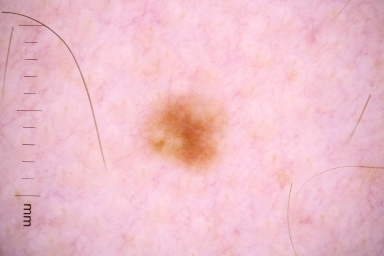melanoma: (142, 94, 227, 174)
